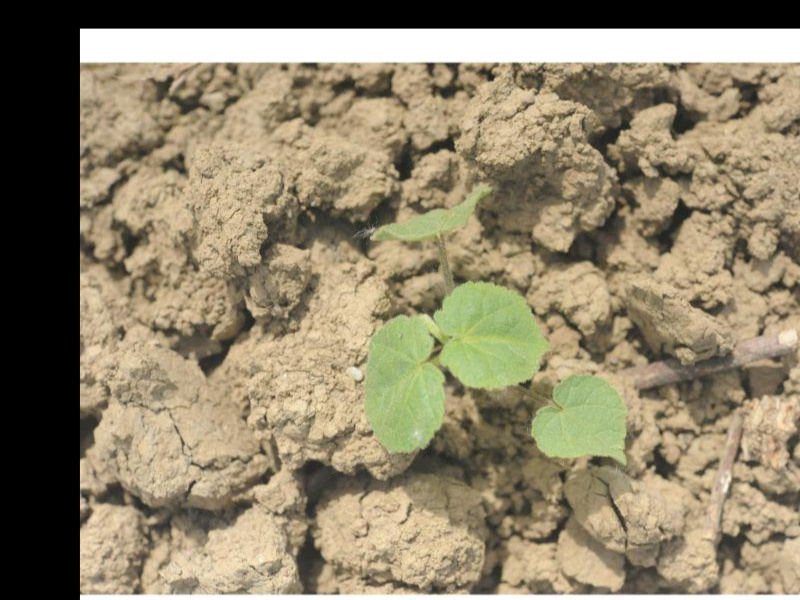velvet: (362, 182, 624, 471)
